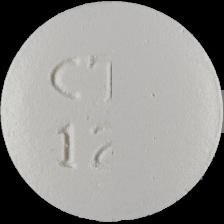50268-304: (0, 0, 224, 224)
